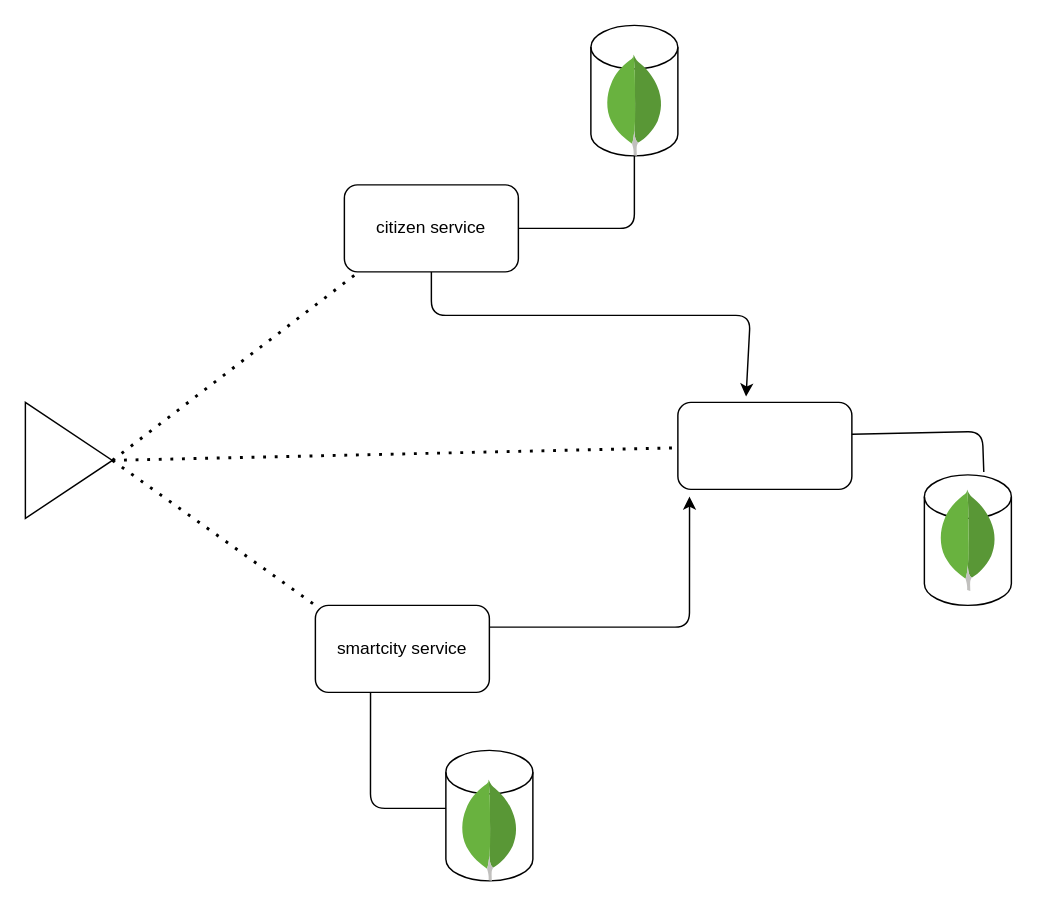
This 1037x906 diagram has some shape labels left out. Here are the shapes that lost their labels. From the top down, the centre of each, then its label:
(x=68, y=459): api gateway
(x=764, y=445): provider service
